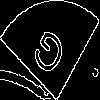G: (25, 24, 69, 87)
